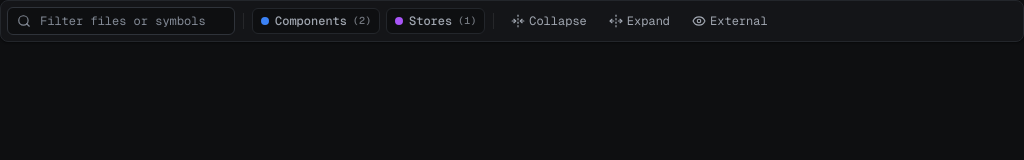
LayerFilterBar Component › clears search input and store query when clear button is clicked (AC-6)
Type "button" into the field with test id "canvas-search-input" at coordinates (121, 21), box [7,7,235,35]
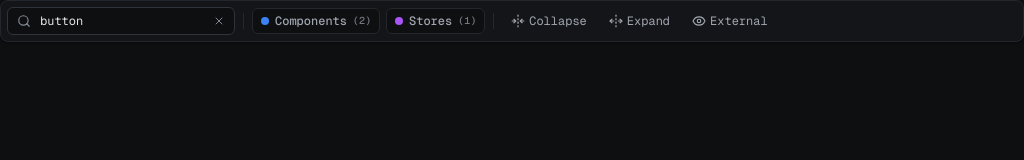
Click the button named "Clear search" at coordinates (219, 21), box [211,13,227,29]
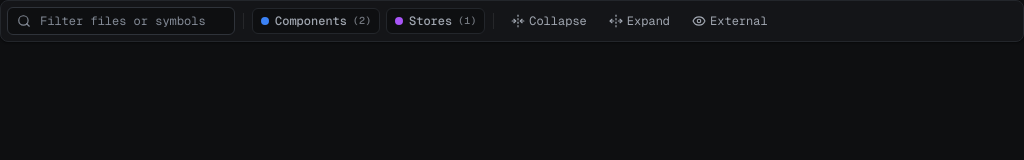
expect the field with test id "canvas-search-input" is empty: met, box [7,7,235,35]
